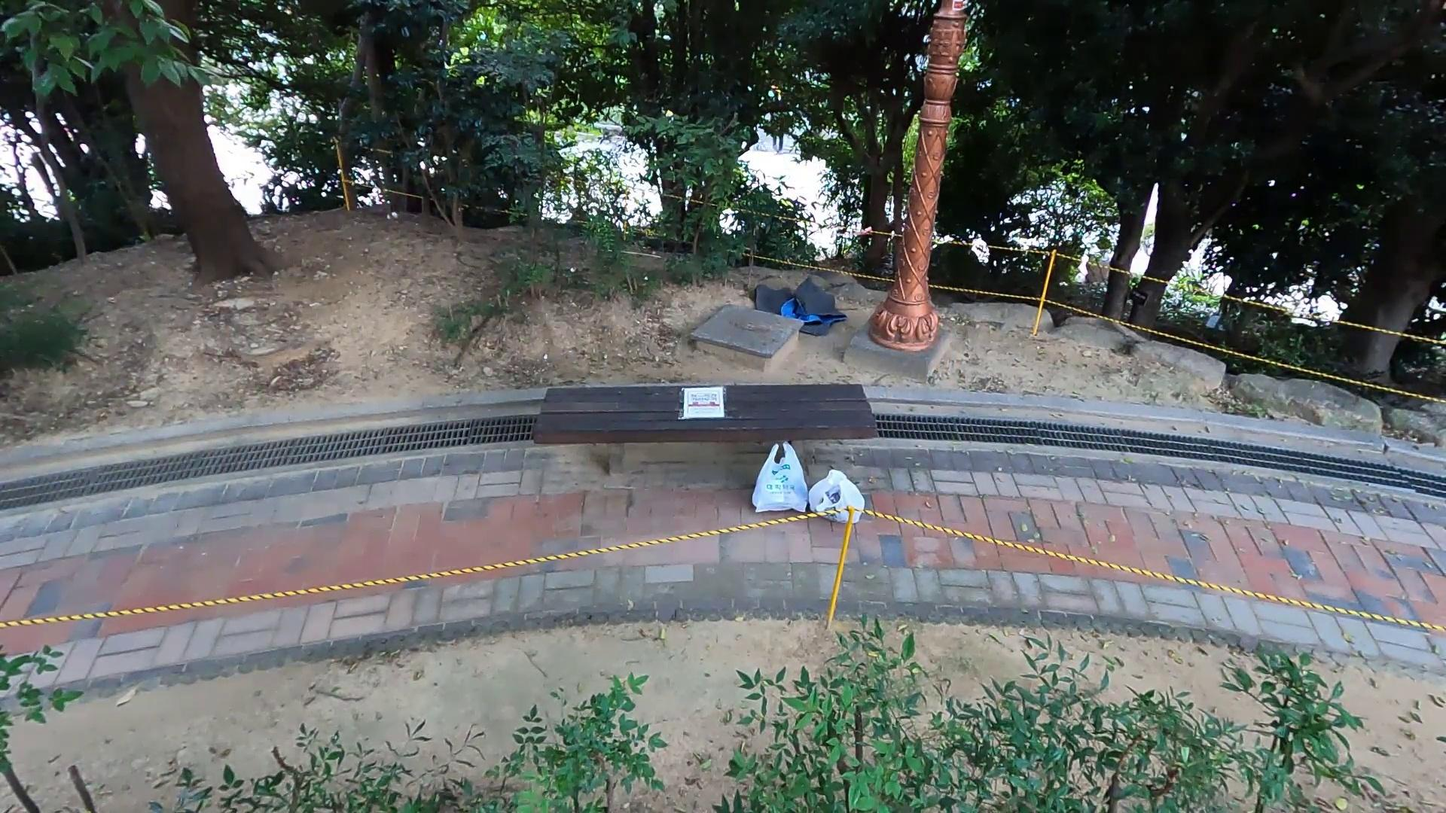trash: (752, 276, 848, 336), (752, 440, 809, 516), (807, 468, 866, 526)
